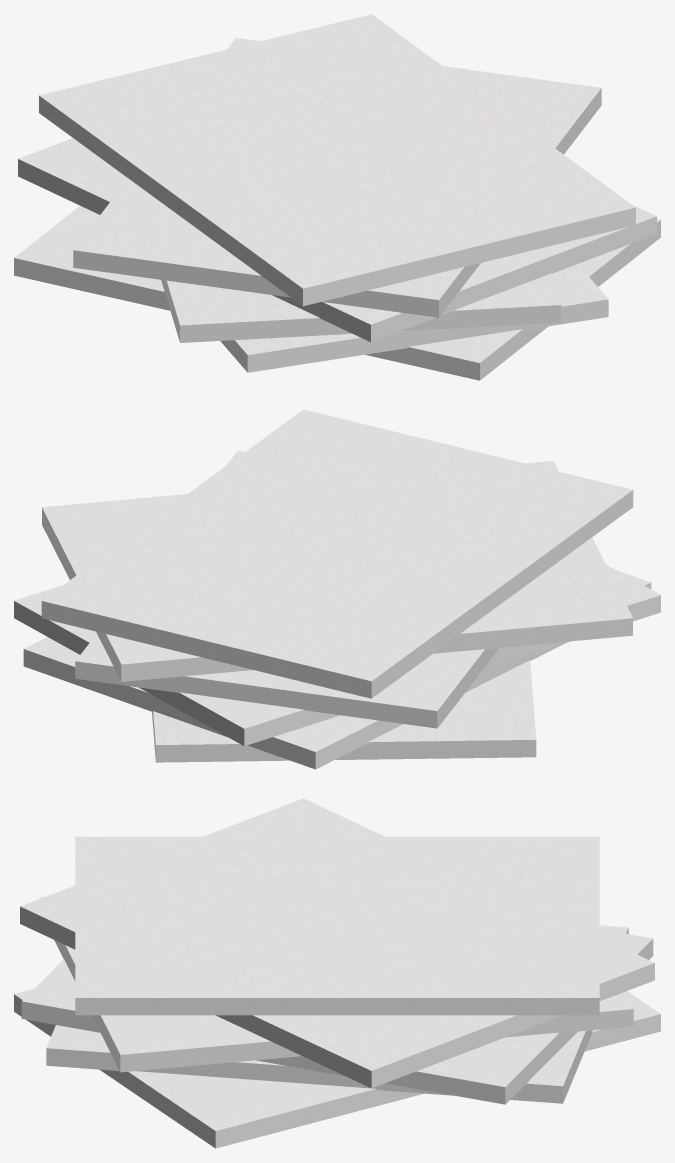
The model's file is PaperStack.fbx.
The picture shows the model from 3 angles, top to bottom: view 1: azimuth 30°, elevation 25°; view 2: azimuth 150°, elevation 25°; view 3: azimuth 270°, elevation 25°; orthographic projection.
Parts seen in each view (by area): view 1: Cube; view 2: Cube; view 3: Cube.
Boxes of the visible parts, x1,y1,x2,y2 form: Cube: [14, 14, 660, 380]; Cube: [14, 409, 660, 769]; Cube: [14, 798, 660, 1148].
Bounding box in the file's own units: 242 × 43.24 × 243.
